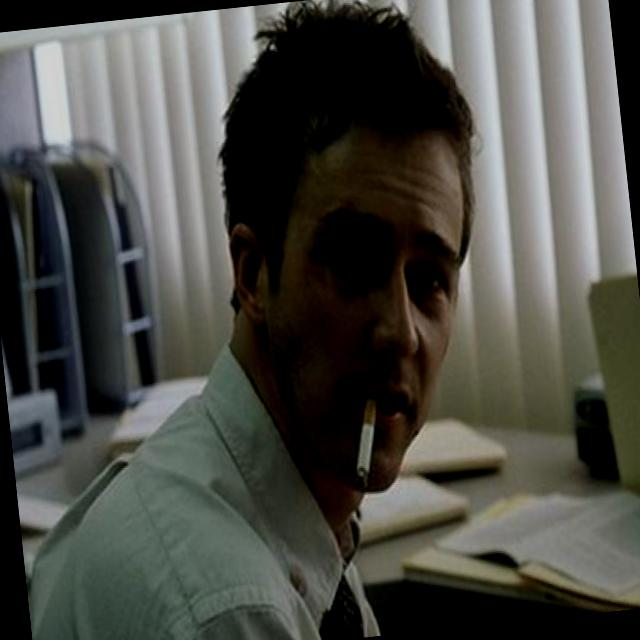smoke: (322, 358, 412, 501)
